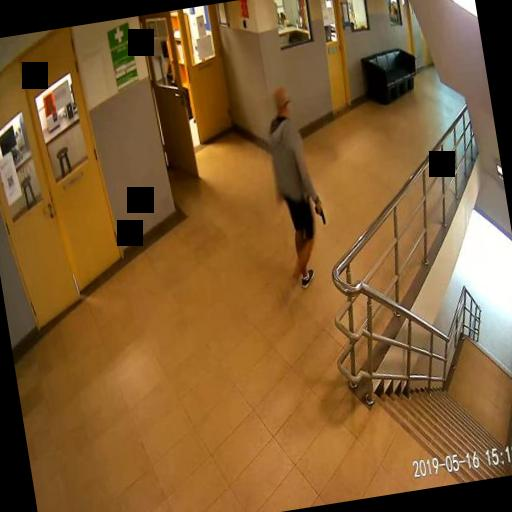Handgun: (312, 197, 324, 224)
